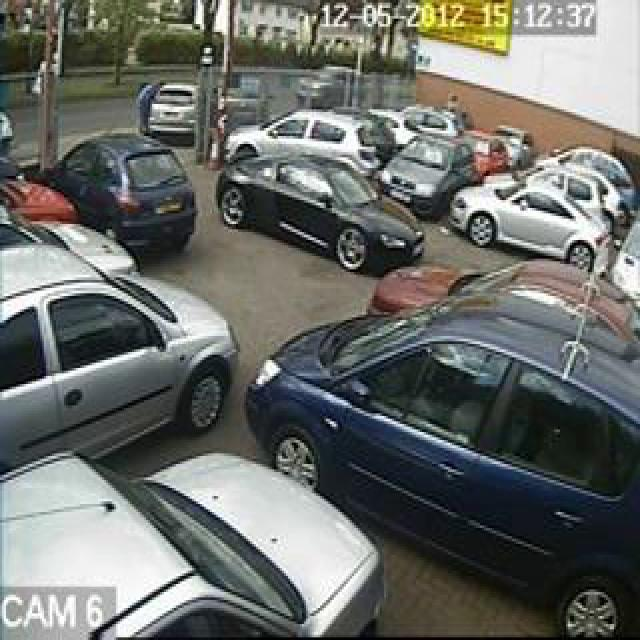stealing: (1, 0, 548, 640)
